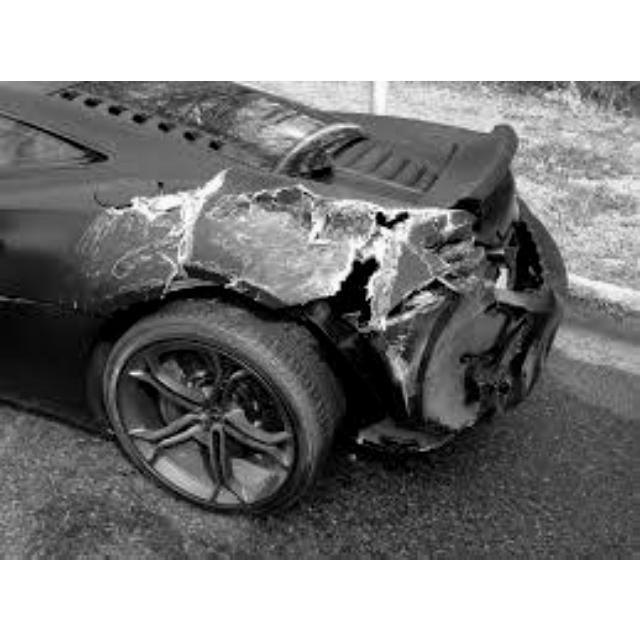quaterpanel-dent: (80, 165, 403, 308)
rear-bumper-dent: (398, 301, 556, 412)
